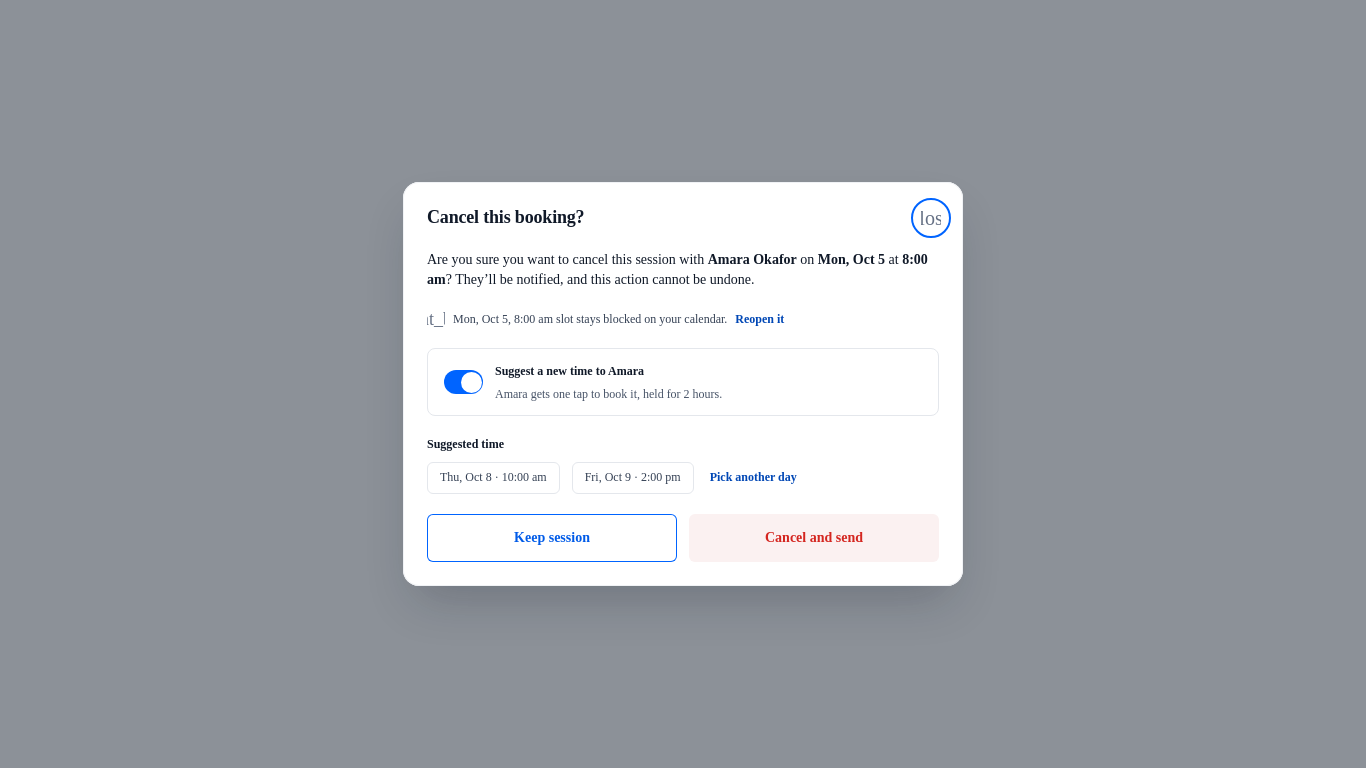
Test case: what happens to the hour, said as a line › the link flips the line, and says how to undo itself
Click the button "Reopen it". click: (760,320)
box: [735,311,784,328]
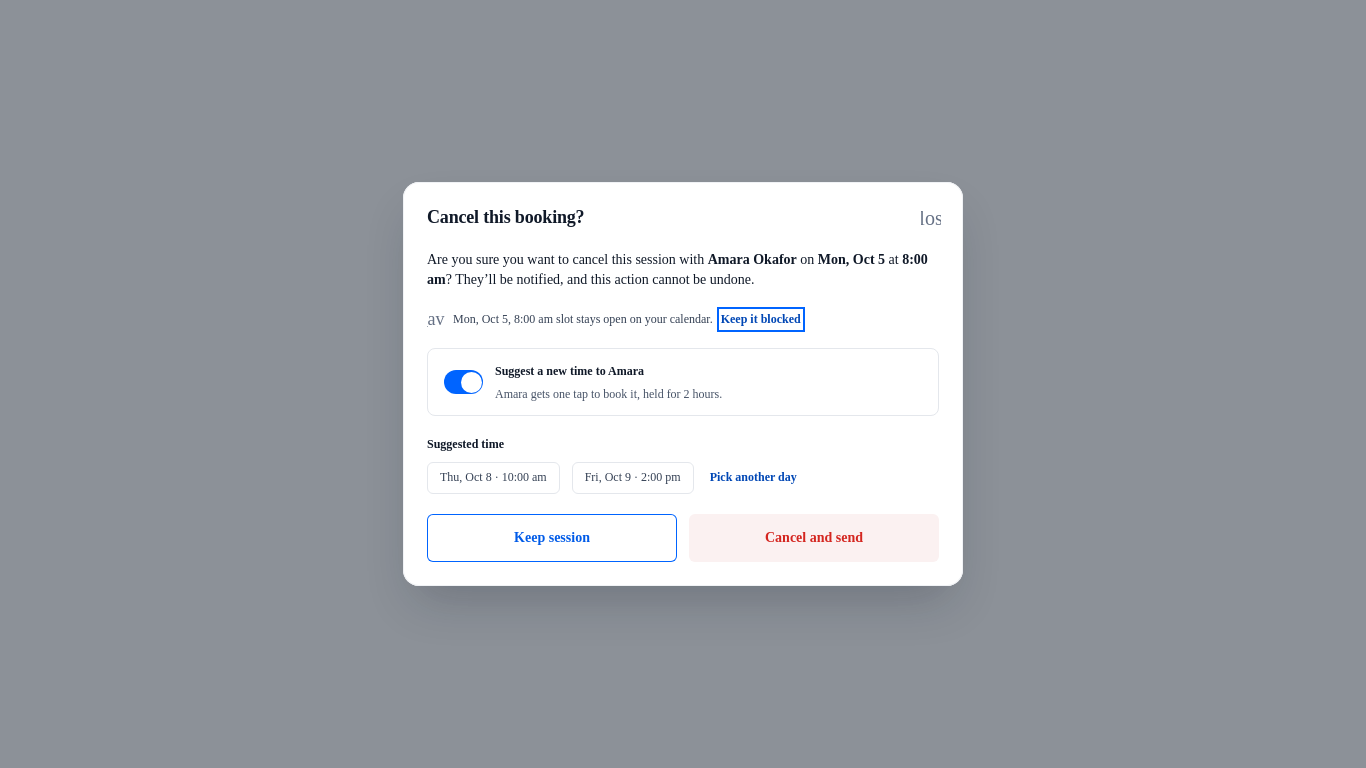
Result: the text "Mon, Oct 5, 8:00 am slot stays open on your calendar." is shown at [453,311,713,328]
Result: the button "Keep it blocked" is shown at [721,311,801,328]
